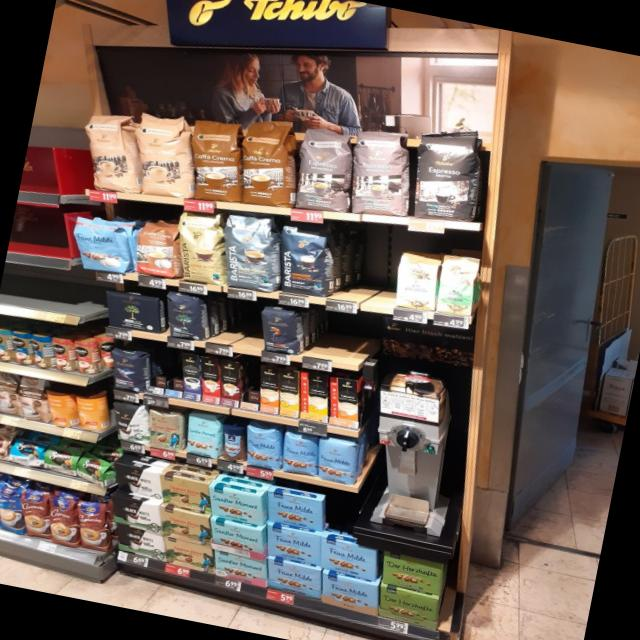Athiopien Bohne: (434, 254, 481, 317)
Athiopien Gemahlen: (392, 245, 444, 313)
BM Bohne: (158, 290, 216, 346)
BM Gemahlen: (98, 290, 168, 336)
BW Bohne: (106, 402, 154, 444)
BW Gemahlen: (110, 523, 170, 563), (106, 495, 164, 535), (109, 464, 165, 502)
Barista CB: (176, 211, 225, 286)
Barista CC: (223, 215, 278, 292)
Barista Espresso: (269, 222, 338, 300)
C Fino Bohne: (105, 349, 152, 396)
CC Mild: (123, 108, 199, 199), (73, 108, 150, 196)
CC Vollmundig: (134, 216, 182, 280)
CC Vollmundig 36 Pads: (230, 117, 304, 211), (179, 116, 249, 205)
Colombia BB Bohne: (142, 408, 190, 452)
Colombia BB Gemahlen: (154, 472, 218, 514), (158, 504, 214, 547), (161, 536, 218, 574)
Empty Shelf: (327, 231, 400, 307), (308, 314, 378, 366), (210, 298, 268, 348), (240, 362, 260, 404), (149, 349, 165, 389), (167, 350, 182, 392)
Espresso Aromatisch: (340, 127, 422, 219), (285, 123, 361, 217)
Espresso Kraftig: (404, 125, 492, 230)
FM 36 Pads: (75, 214, 133, 274)
FM Bohne: (314, 438, 361, 487), (240, 424, 287, 472), (278, 430, 322, 478)
FM Gemahlen: (260, 490, 330, 534), (315, 537, 382, 580), (316, 572, 382, 615), (262, 558, 326, 602), (261, 526, 325, 568)
FM Instant: (218, 422, 250, 465)
Herzhatfe Mundig: (374, 584, 446, 632), (378, 550, 448, 598)
LG Bohne: (254, 306, 310, 358)
SM Bohne: (180, 413, 226, 460)
SM Gemahlen: (205, 518, 269, 562), (203, 485, 268, 527), (208, 550, 270, 590)
Simo CCMild: (300, 371, 329, 424)
Simo CCMild bigpack: (279, 368, 299, 418)
Simo CCVollmundig: (330, 377, 358, 429)
Simo CCVollmundig bigpack: (259, 365, 281, 415)
Simo Es Brazil: (202, 356, 221, 405)
Simo Es Caramel: (220, 358, 240, 409)
Simo Es Kraft: (181, 353, 200, 401)
